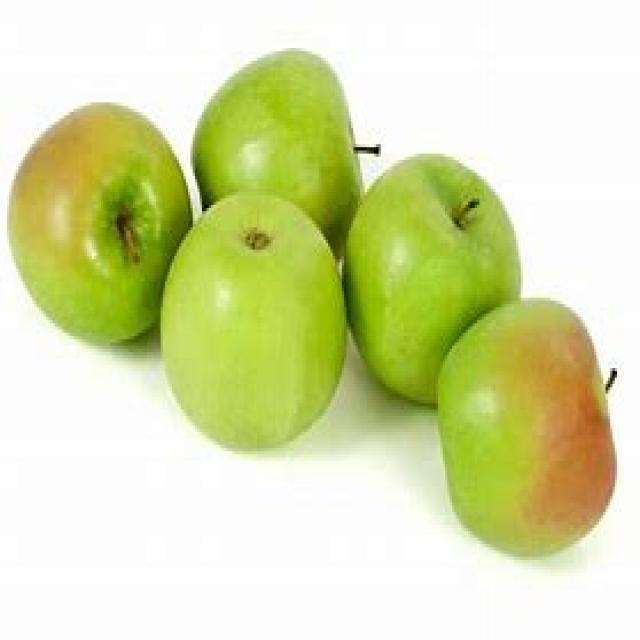apple: (161, 185, 349, 453), (437, 297, 618, 556), (9, 98, 163, 348), (352, 153, 522, 299)
